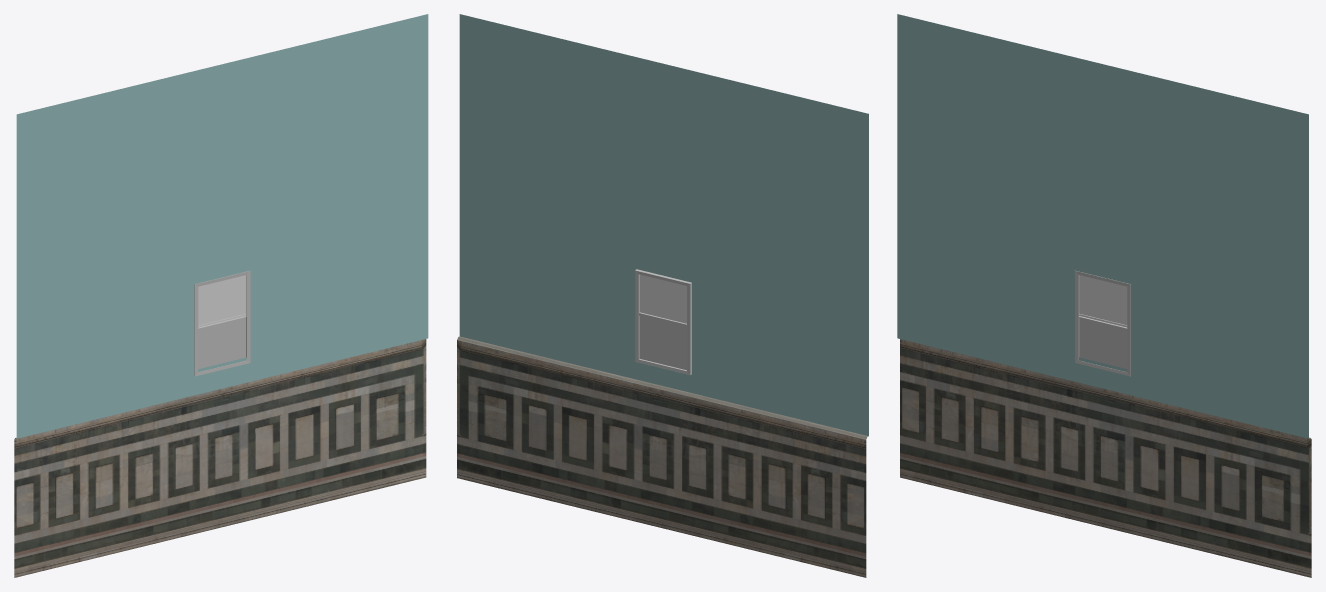
Rendered from HallWayWithHole.fbx.
3 views of the same model, side by side, from view 1: azimuth 30°, elevation 25°; view 2: azimuth 150°, elevation 25°; view 3: azimuth 330°, elevation 25° (orthographic).
Visible parts, largest first — view 1: Wall_WithWindowHolde, Wall_Pattern, Window, Window_Fence; view 2: Wall_WithWindowHolde, Wall_Pattern, Window, Window_Fence; view 3: Wall_WithWindowHolde, Wall_Pattern, Window, Window_Fence.
Boxes of the visible parts, <box> form: Wall_WithWindowHolde: <box>16,14,428,438</box>; Wall_Pattern: <box>14,339,426,577</box>; Window: <box>194,271,250,376</box>; Window_Fence: <box>198,275,246,327</box>; Wall_WithWindowHolde: <box>459,14,868,436</box>; Wall_Pattern: <box>457,336,868,577</box>; Window: <box>635,269,691,374</box>; Window_Fence: <box>640,274,686,323</box>; Wall_WithWindowHolde: <box>897,14,1308,438</box>; Wall_Pattern: <box>900,339,1311,577</box>; Window: <box>1075,270,1130,376</box>; Window_Fence: <box>1079,275,1127,327</box>.
Size of the model in its own units: 606 by 654 by 6.58.
